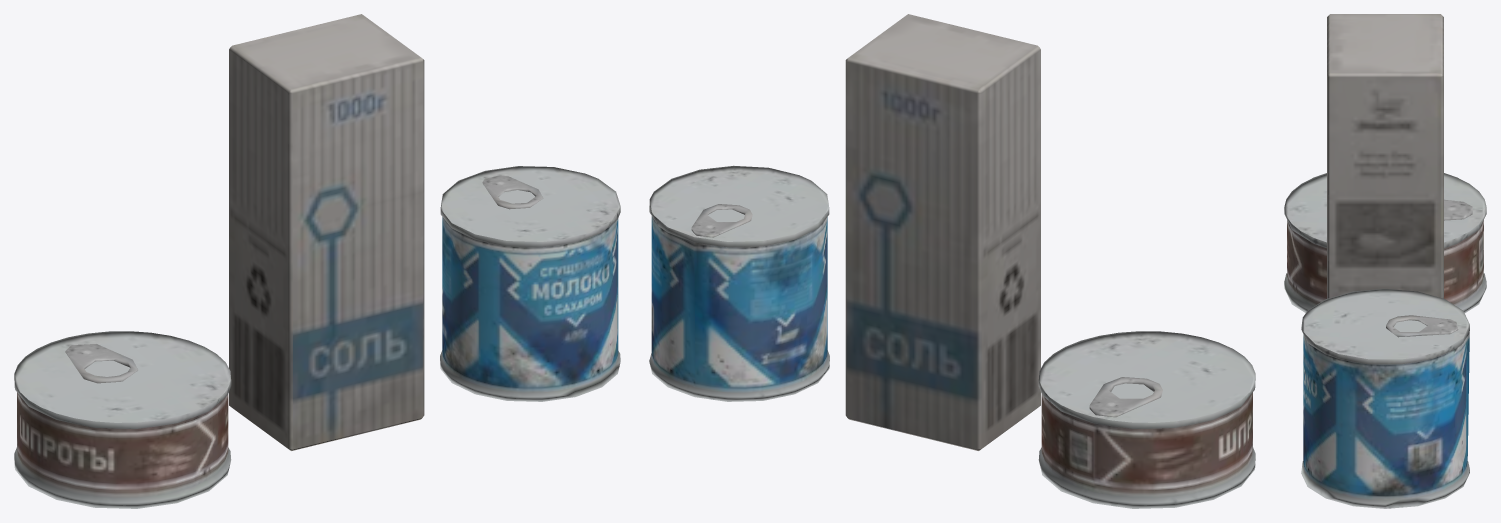
File: foodCans.glb
The picture shows the model from 3 angles, left to right: view 1: azimuth 30°, elevation 25°; view 2: azimuth 150°, elevation 25°; view 3: azimuth 270°, elevation 25°; orthographic projection. The views are drawn at different scales.
Parts seen in each view (by area): view 1: russian_food_cans_01_salt_box; view 2: russian_food_cans_01_salt_box; view 3: russian_food_cans_01_salt_box.
Boxes of the visible parts, x1=… form: russian_food_cans_01_salt_box: x1=14, y1=14, x2=620, y2=508; russian_food_cans_01_salt_box: x1=649, y1=14, x2=1255, y2=508; russian_food_cans_01_salt_box: x1=1284, y1=14, x2=1486, y2=508.
Size of the model in its own units: 0.1424 by 0.0849 by 0.0462.
Materials: 1 (1 with a texture image).
